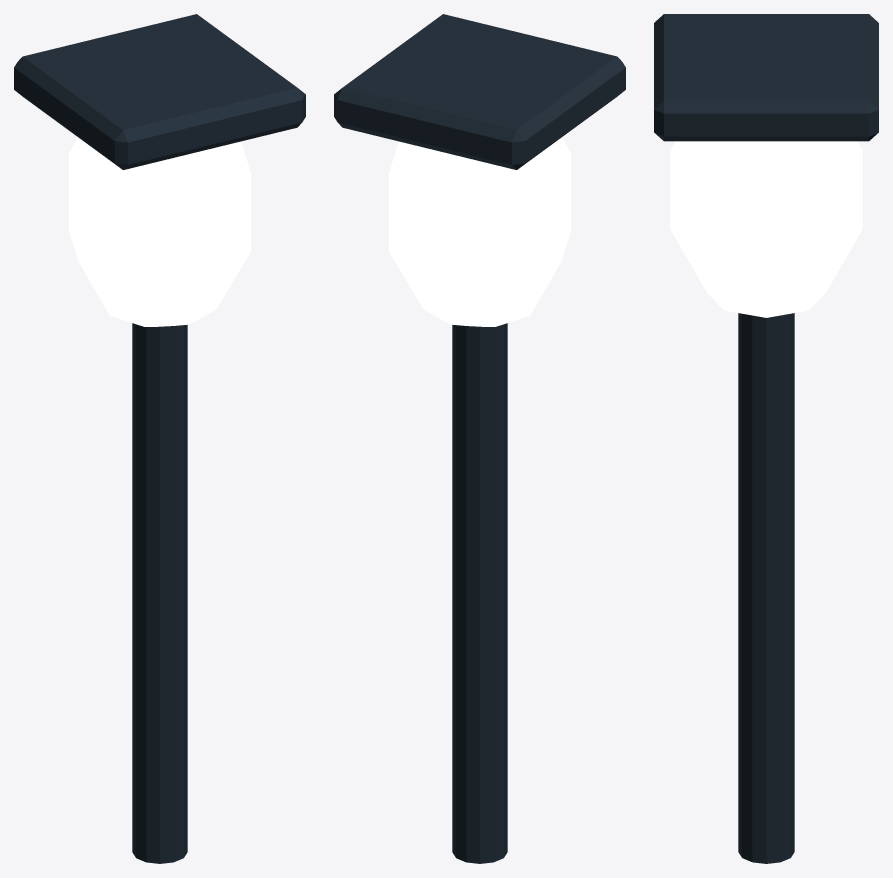
Rendered from objects-lantern.lod0.glb.
3 views of the same model, side by side, from view 1: azimuth 30°, elevation 25°; view 2: azimuth 150°, elevation 25°; view 3: azimuth 270°, elevation 25° (orthographic).
Visible parts, largest first — view 1: objects-lantern__body; view 2: objects-lantern__body; view 3: objects-lantern__body.
Boxes of the visible parts, <box> form: objects-lantern__body: <box>14,14,305,863</box>; objects-lantern__body: <box>334,14,625,863</box>; objects-lantern__body: <box>654,14,878,863</box>.
Bounding box in the file's own units: 0.4 × 1.56 × 0.4.
